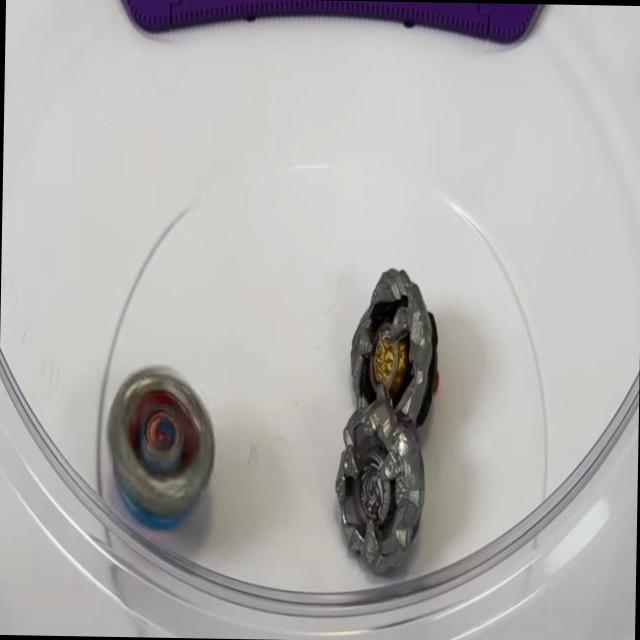Beyblade: (102, 364, 215, 532), (332, 398, 427, 572), (348, 268, 439, 426)
